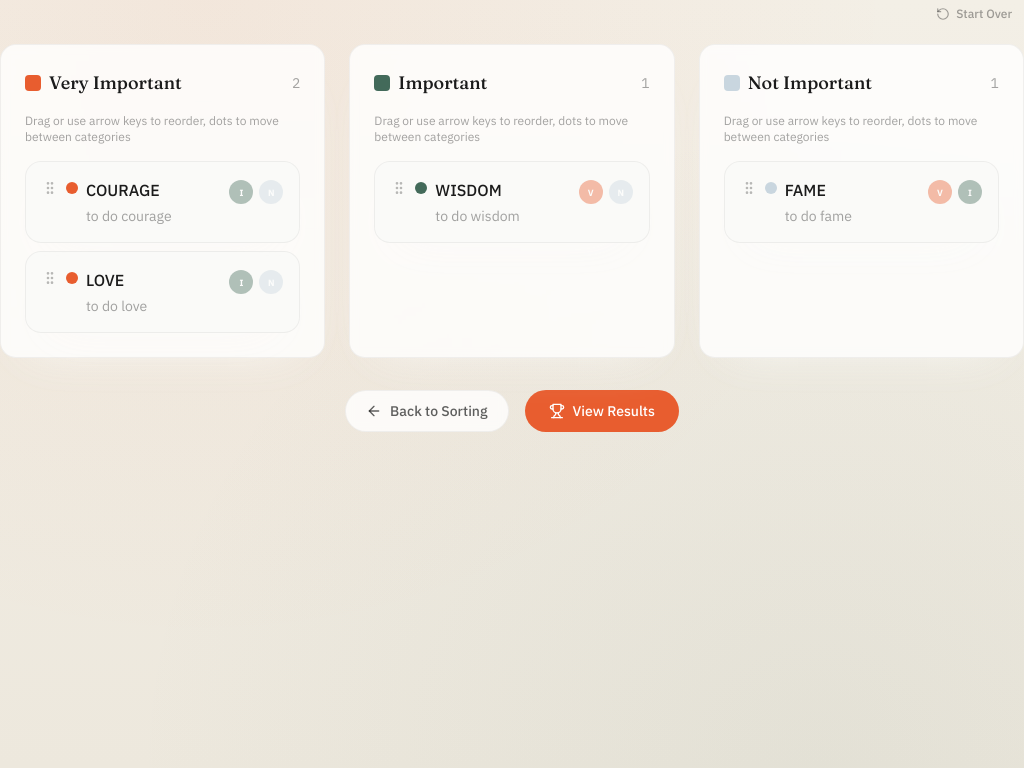
RankingPhase › shows reset confirmation modal
The image size is (1024, 768).
Click the button "Start Over". click: (974, 14)
box: 924,0 -> 1023,28
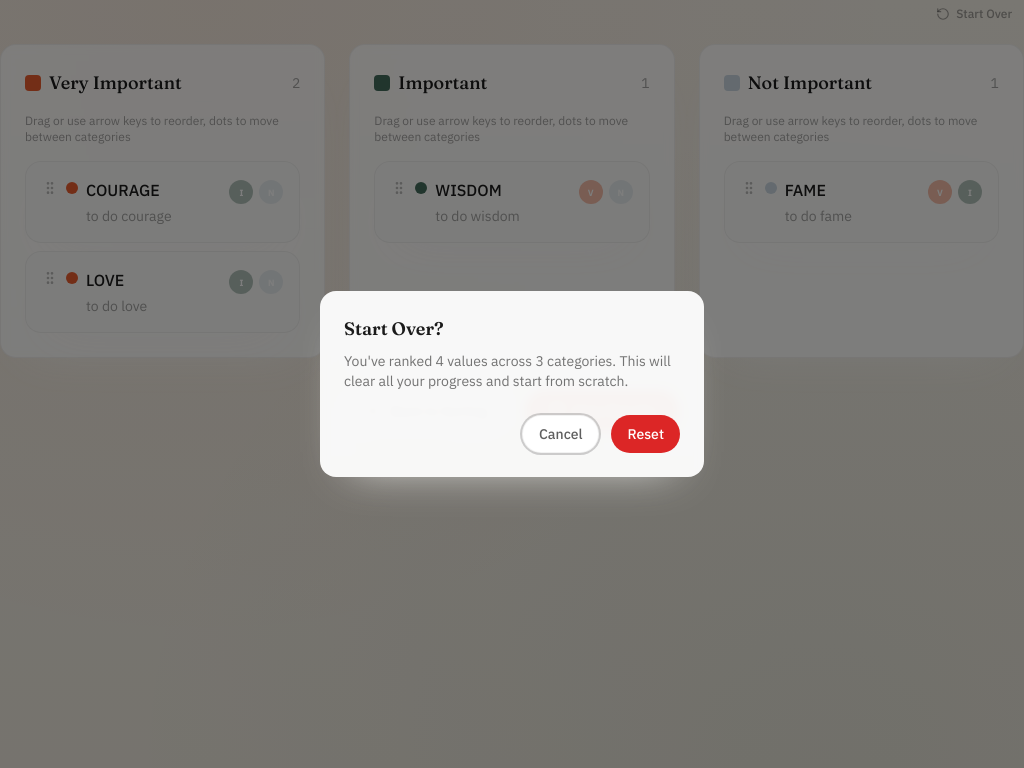
Result: the dialog is shown
Result: the text "ranked 4 values" is shown at 344,352 -> 671,390
